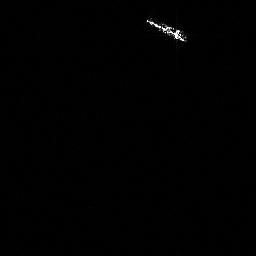ship: (143, 14, 190, 44)
